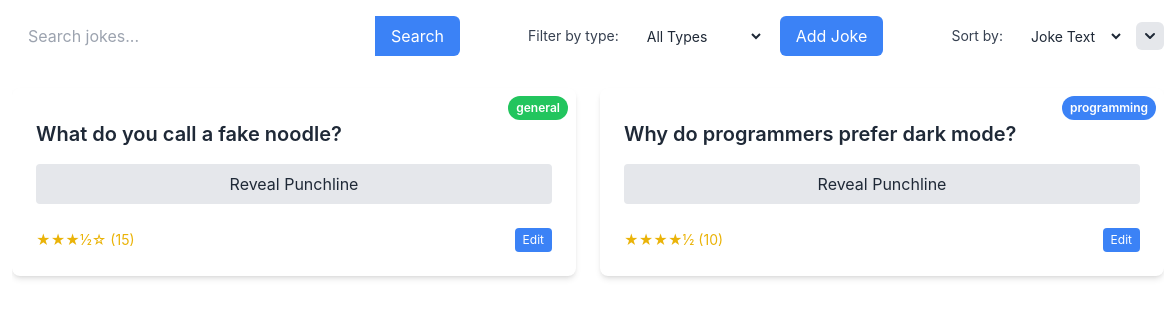
Test case: JokeList Component › handles search functionality
In the field with placeholder "Search jokes...": (193, 36) [12,16,375,56], type "programmer"
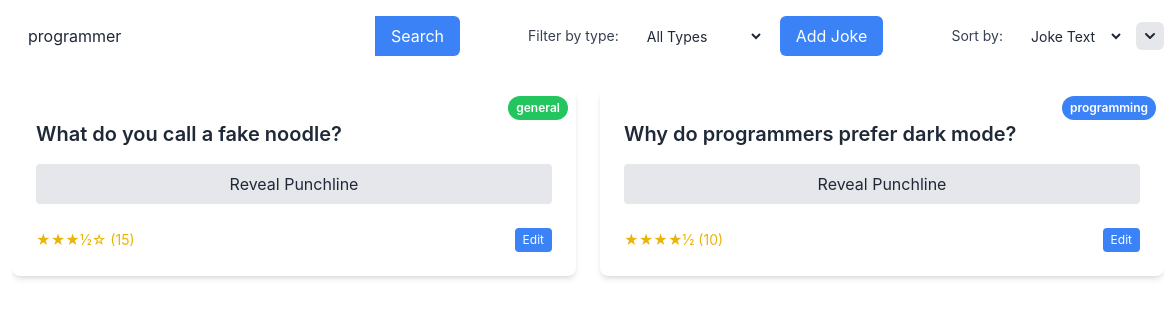
Click the button "Search": (417, 36) [375,16,460,56]
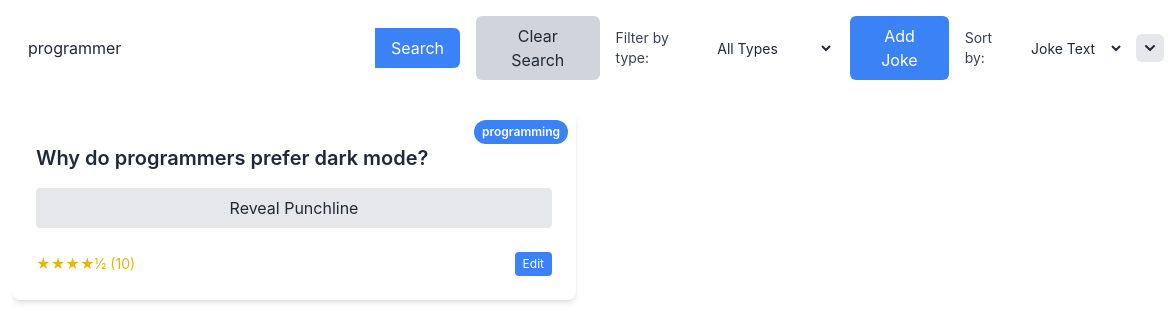
expect the heading "Why do programmers prefer dark mode?" is shown: met, box [36,146,428,170]
expect the heading "What do you call a fake noodle?" is gone: met
